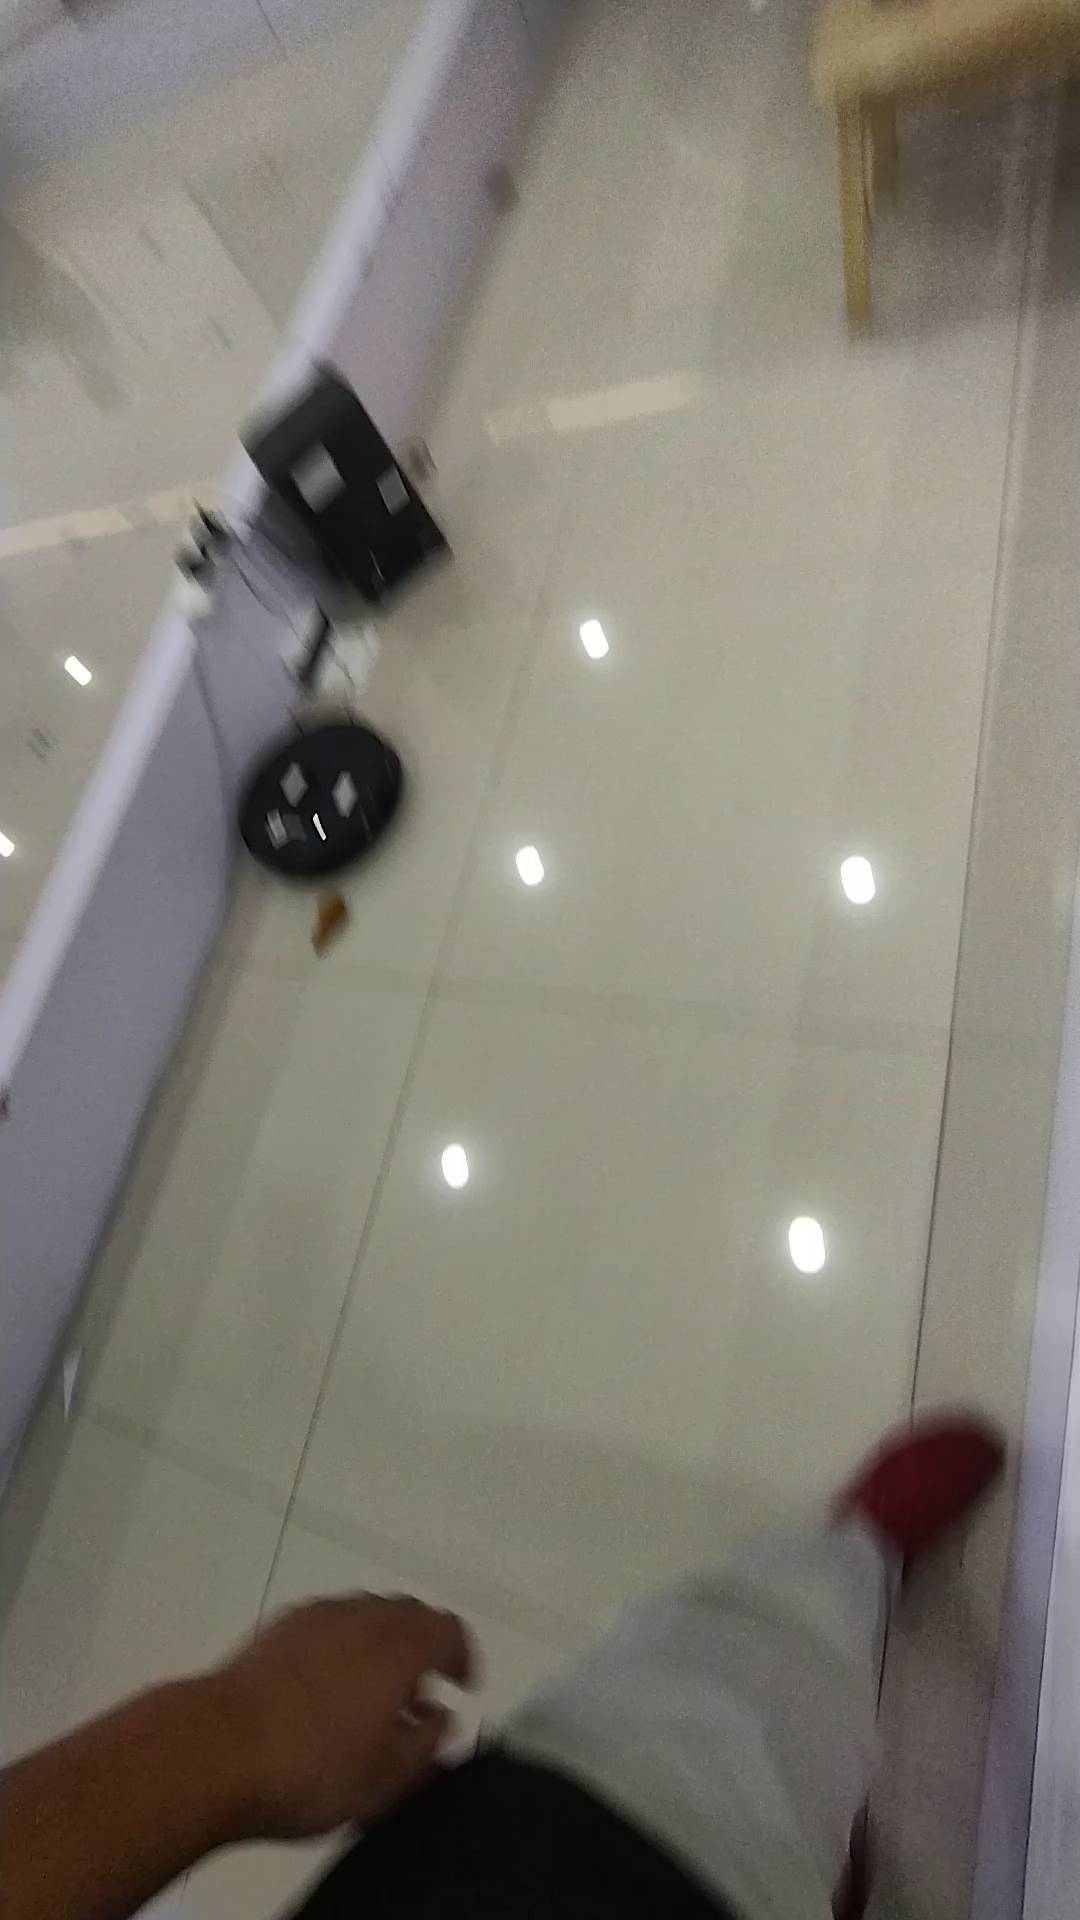dust collecting barrel: (245, 368, 443, 605)
recharge seat: (280, 597, 386, 696)
